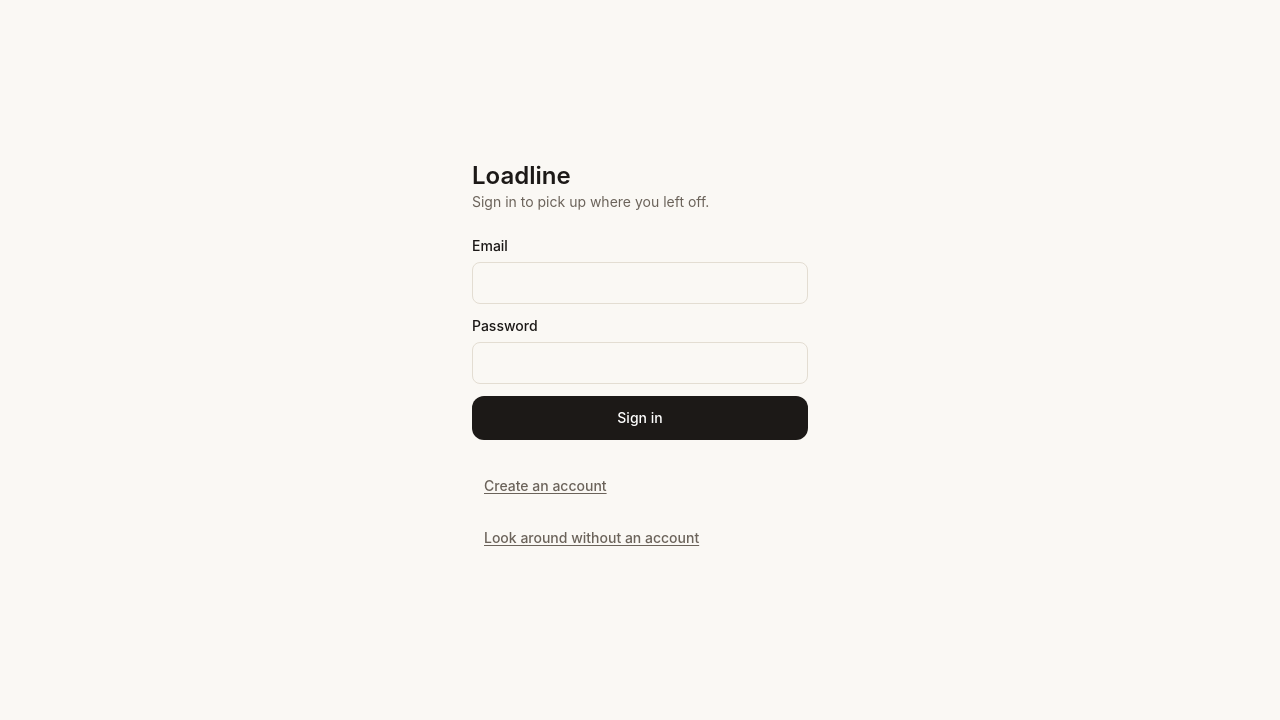
App › returns to the way in from the preview banner
Click the button "Look around without an account" at (592, 538), box [472, 516, 711, 560]
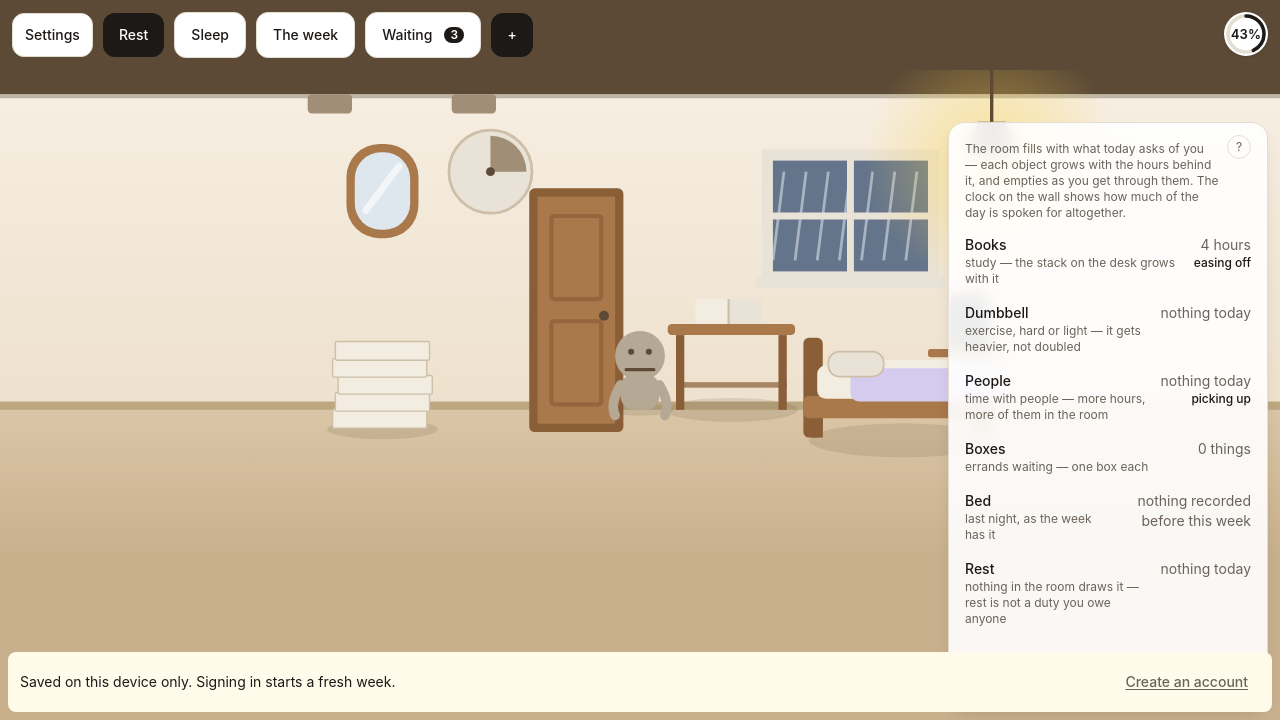
Now the message "Saved on this device only. Signing in starts a fresh week. Create an account" is shown, box [8, 652, 1272, 712]
Click the button "Create an account" at (1187, 682), box [1113, 660, 1260, 704]
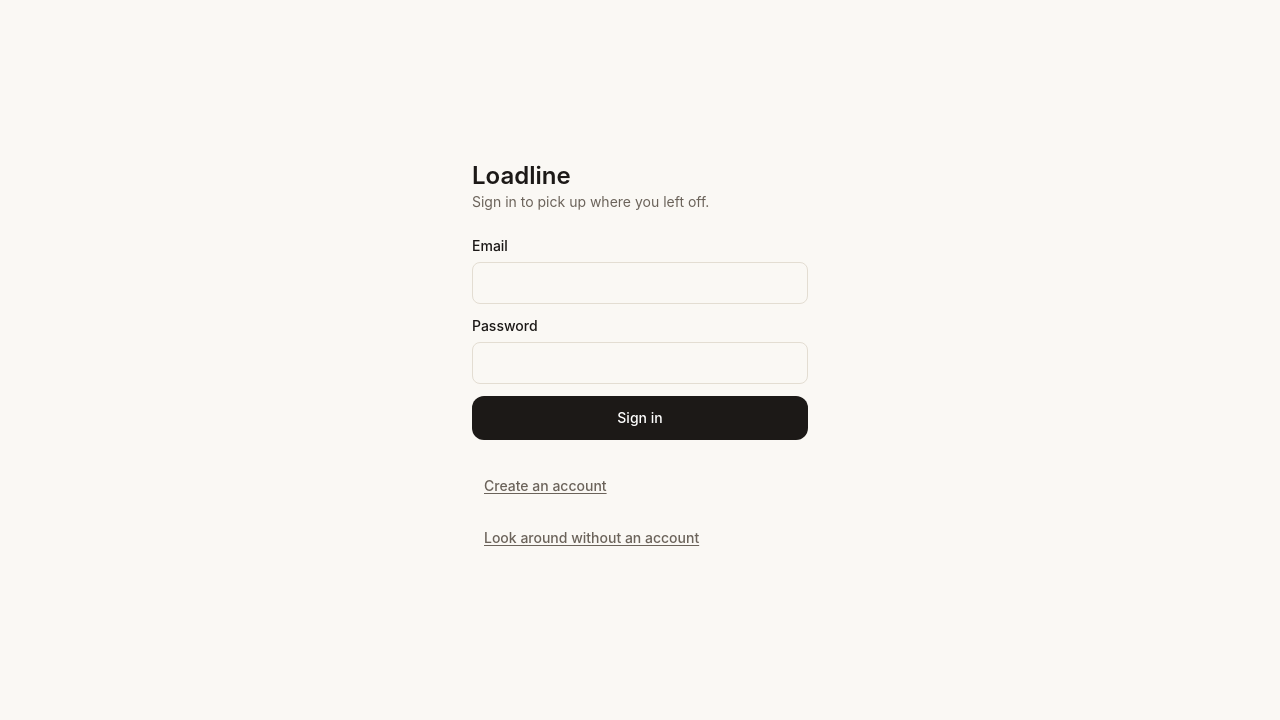
Now the button "Sign in" is shown, box [472, 396, 808, 440]
